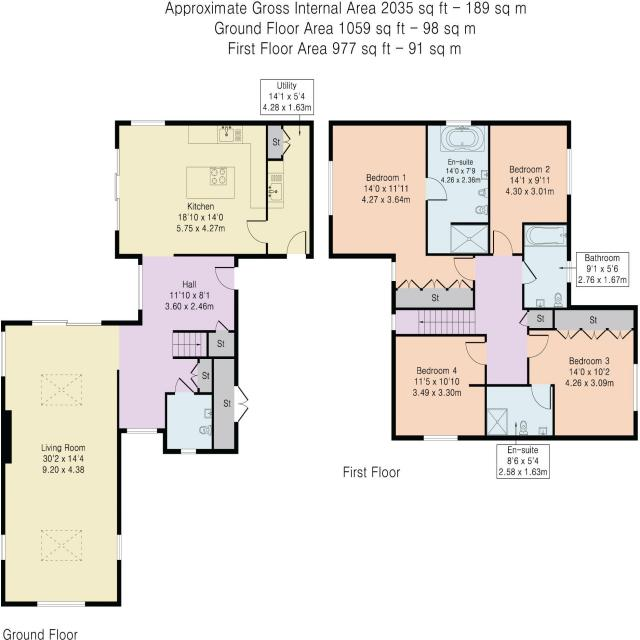DOOR: (425, 176, 449, 203), (286, 230, 307, 259), (214, 266, 238, 291), (465, 341, 487, 366), (453, 257, 475, 282), (246, 219, 268, 244), (492, 230, 513, 256), (527, 334, 549, 358), (531, 384, 551, 410), (522, 261, 538, 285), (174, 377, 195, 395)
ROOM: (328, 120, 476, 310), (115, 120, 268, 259), (527, 305, 638, 441), (488, 120, 571, 256), (391, 334, 487, 441)
SLIDING DOOR: (26, 315, 104, 329), (112, 146, 122, 234)
WINDOW: (36, 601, 86, 607), (566, 148, 572, 195), (328, 160, 333, 216), (444, 118, 473, 127), (633, 363, 638, 412), (138, 264, 143, 311), (1, 331, 6, 377), (130, 120, 166, 126), (423, 435, 458, 441), (126, 428, 158, 434), (1, 534, 6, 561), (117, 534, 122, 560), (391, 261, 396, 282), (567, 260, 571, 283), (391, 314, 396, 331), (180, 449, 197, 454)
